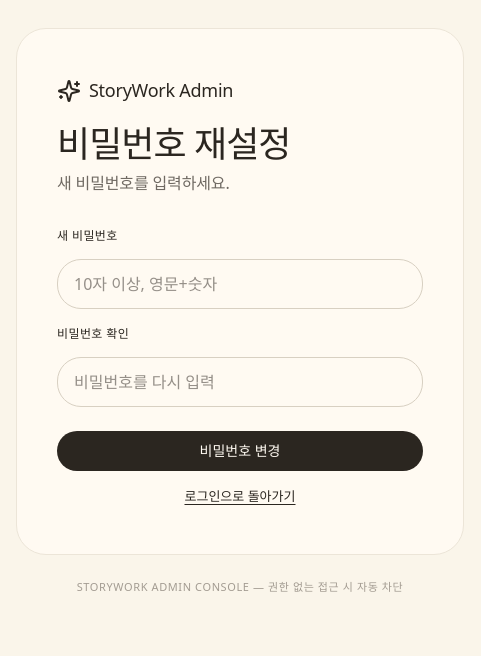
Test: ResetPasswordPage › 비밀번호가 일치하지 않으면 검증 에러를 표시한다
Type "password123" into the password field labelled "새 비밀번호" at {"x": 240, "y": 284}, box [57,259,423,309]
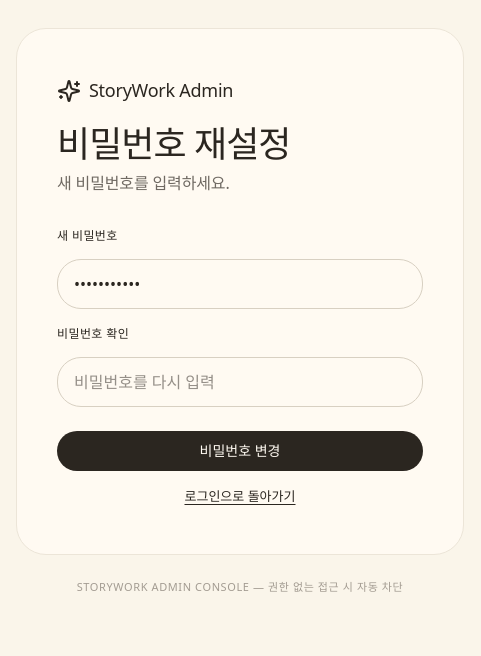
Type "differentpassword" into the password field labelled "비밀번호 확인" at {"x": 240, "y": 382}, box [57,357,423,407]
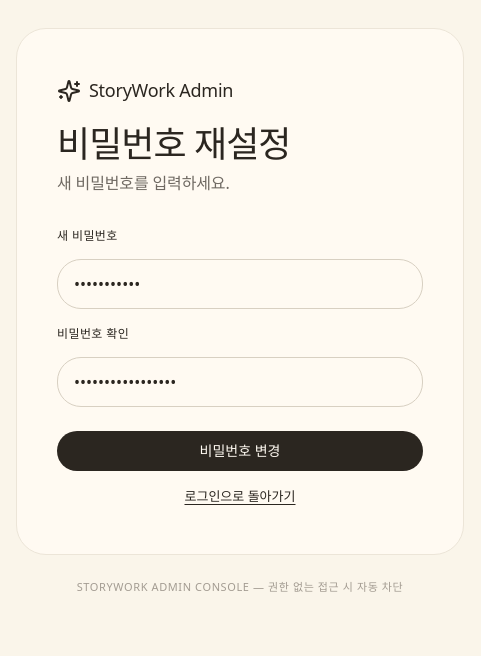
Click the button "비밀번호 변경" at {"x": 240, "y": 451}, box [57,431,423,471]
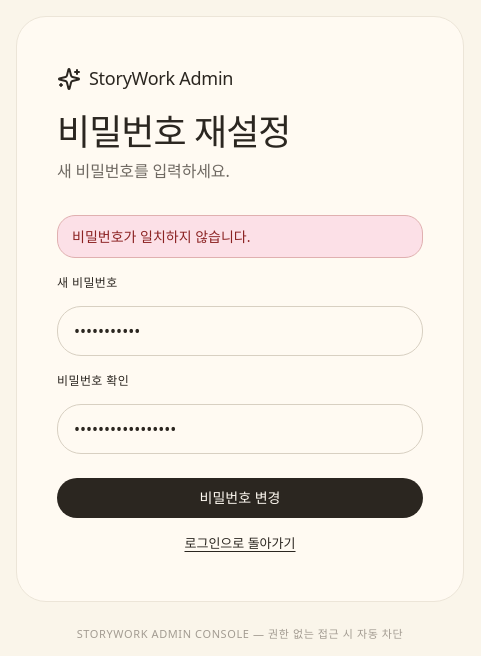
expect the text "비밀번호가 일치하지 않습니다." is shown: met, box [57,215,423,258]
